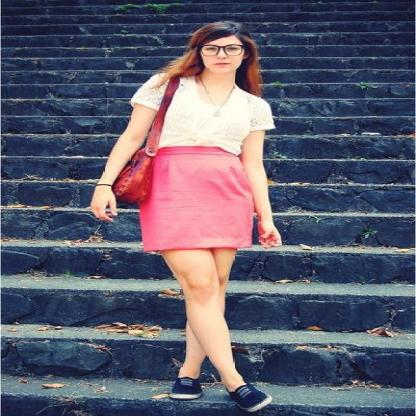bag: (100, 65, 179, 207)
shirt: (130, 75, 277, 154)
shoe: (172, 375, 267, 402)
skirt: (137, 146, 261, 257)
